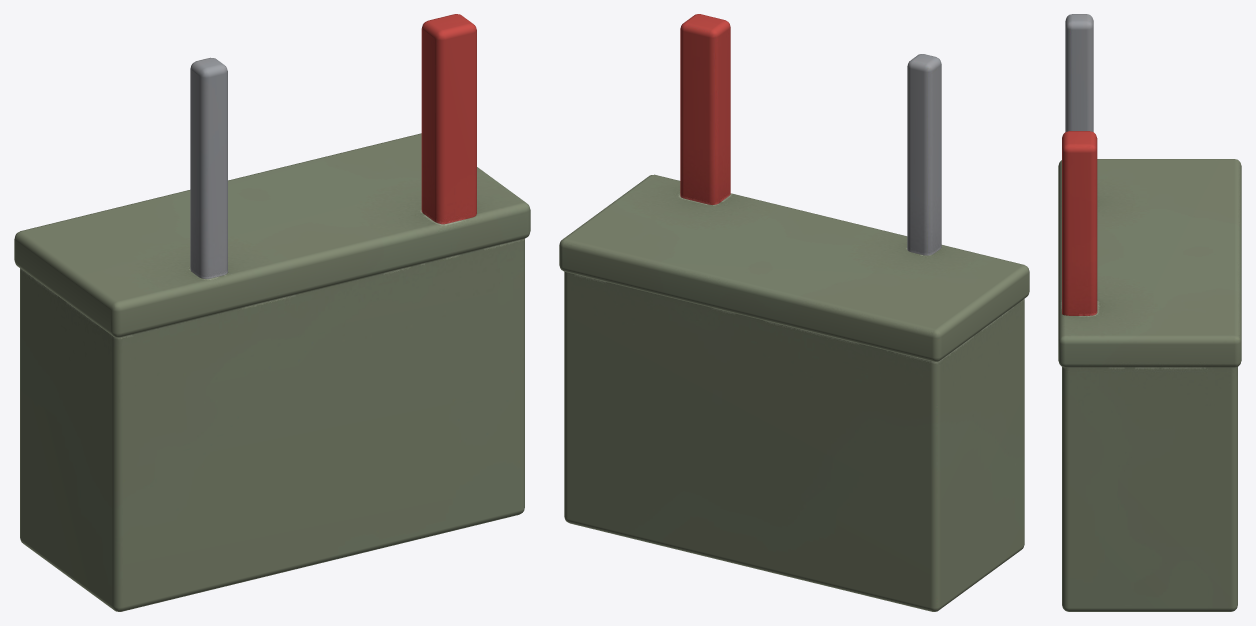
File: kit.fbx
3 views of the same model, side by side, from view 1: azimuth 30°, elevation 25°; view 2: azimuth 150°, elevation 25°; view 3: azimuth 270°, elevation 25° (orthographic). The views are drawn at different scales.
Parts seen in each view (by area): view 1: kit; view 2: kit; view 3: kit.
Boxes of the visible parts, x1=… form: kit: x1=14, y1=14, x2=530, y2=611; kit: x1=559, y1=14, x2=1029, y2=611; kit: x1=1058, y1=14, x2=1241, y2=611.
Bounding box in the file's own units: 0.122 × 0.145 × 0.052.
